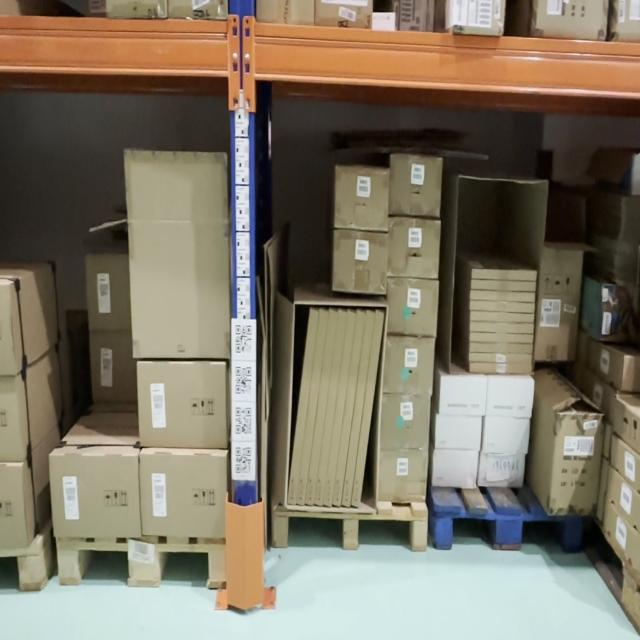box: (125, 152, 230, 359), (51, 454, 141, 539), (138, 364, 225, 448), (141, 456, 225, 535), (551, 414, 606, 516), (332, 229, 388, 293), (334, 169, 389, 230), (388, 219, 440, 279), (390, 158, 442, 215), (386, 281, 437, 336), (380, 394, 430, 449), (383, 341, 434, 394), (379, 451, 427, 503), (440, 377, 487, 415), (488, 380, 532, 417), (433, 451, 478, 487), (484, 419, 529, 455), (435, 415, 481, 450), (478, 454, 525, 488)
